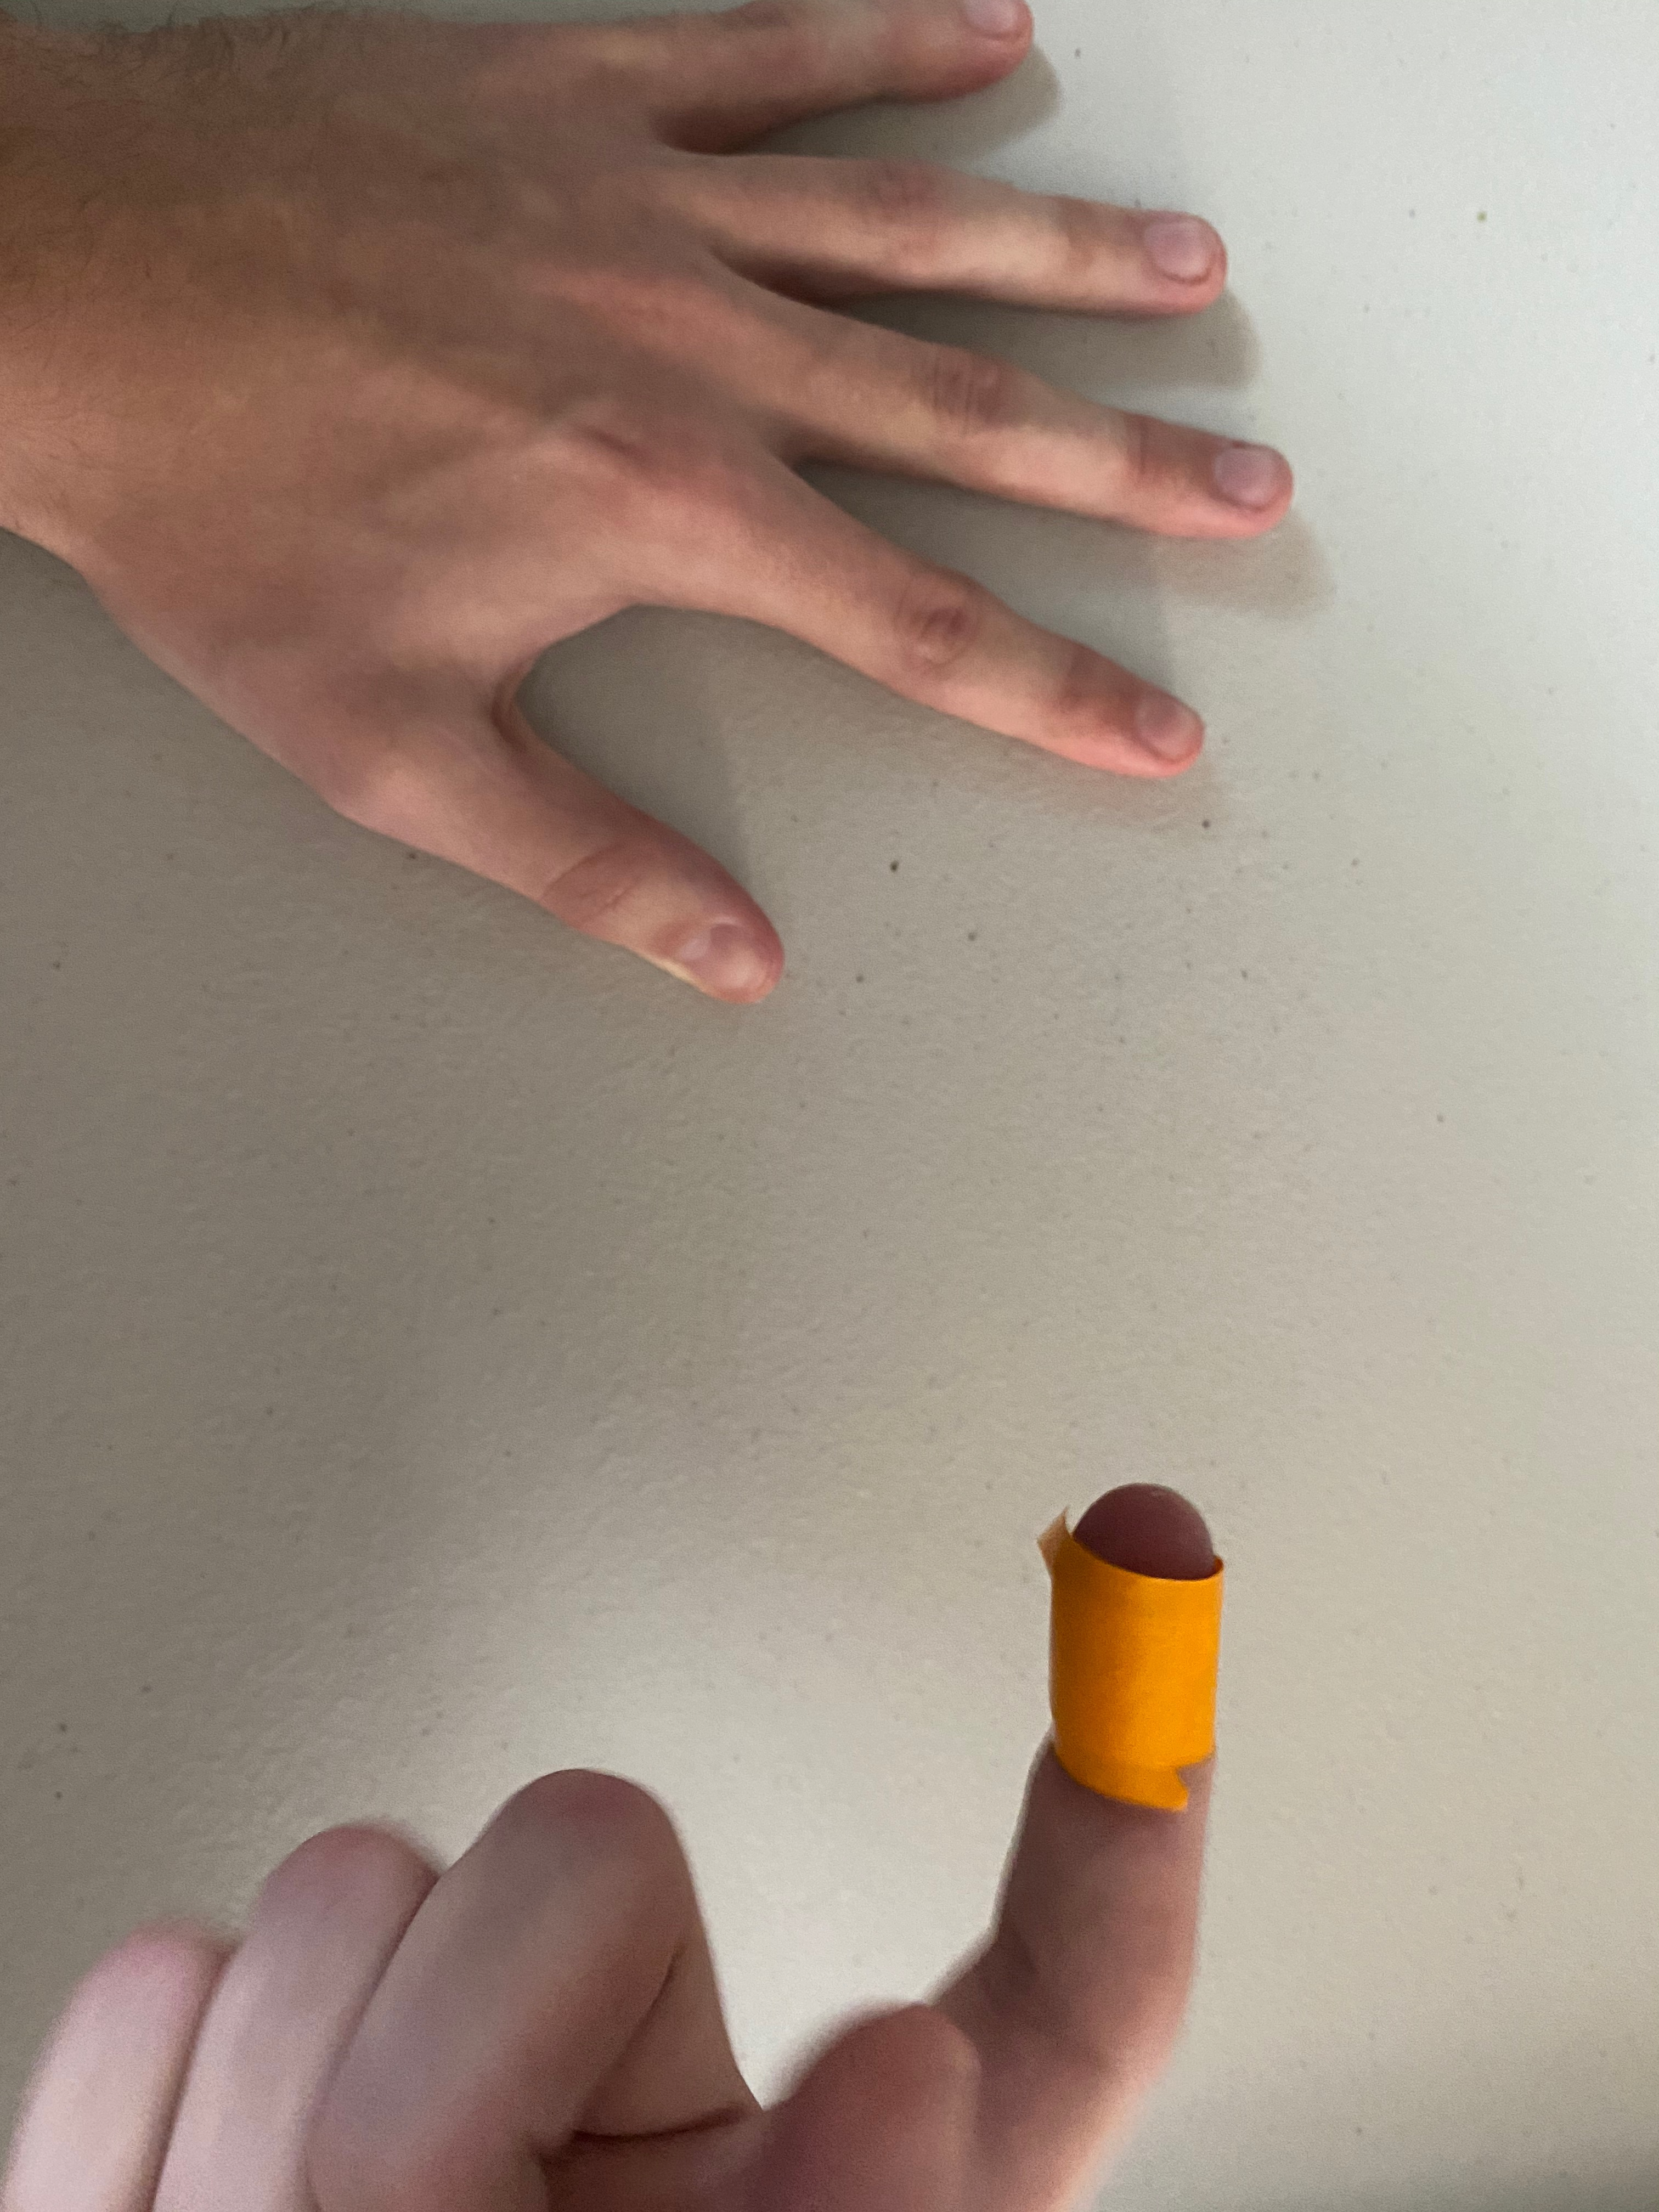fingertip: (1012, 1465, 1277, 1806)
